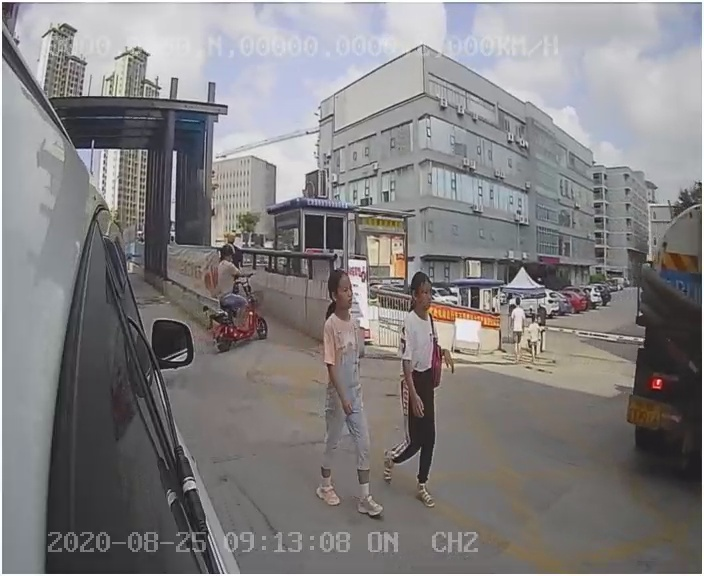person: (307, 270, 388, 524), (381, 276, 462, 507)
